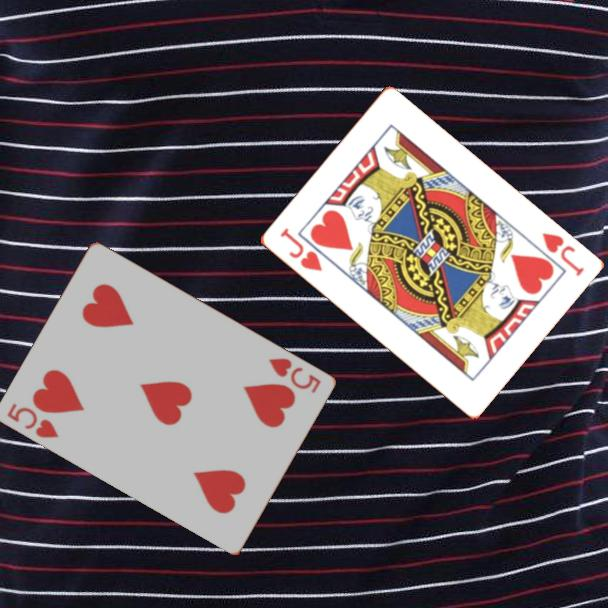h05: (265, 354, 324, 396), (4, 399, 62, 441)
h11: (276, 224, 325, 274), (538, 229, 587, 279)
